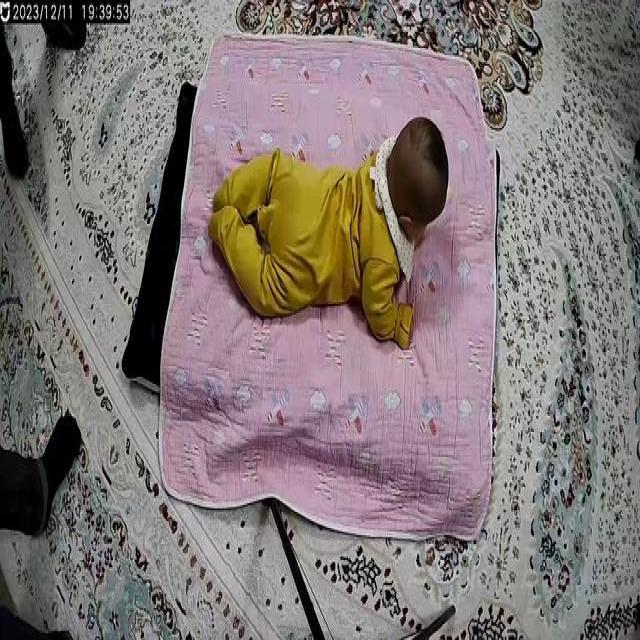baby: (205, 114, 455, 366)
